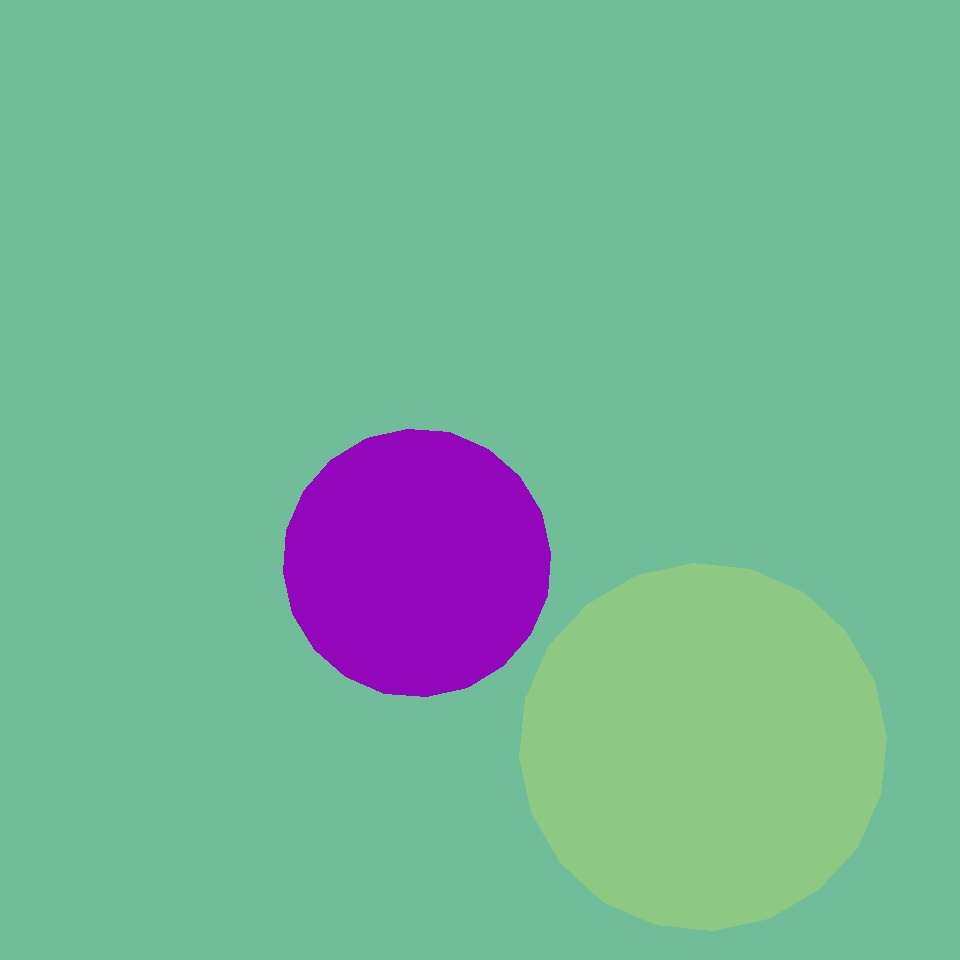circle: (575, 46, 869, 357)
square: (341, 195, 535, 389), (704, 181, 832, 310), (523, 483, 636, 596)
triangle: (520, 564, 886, 930), (284, 430, 550, 696)
